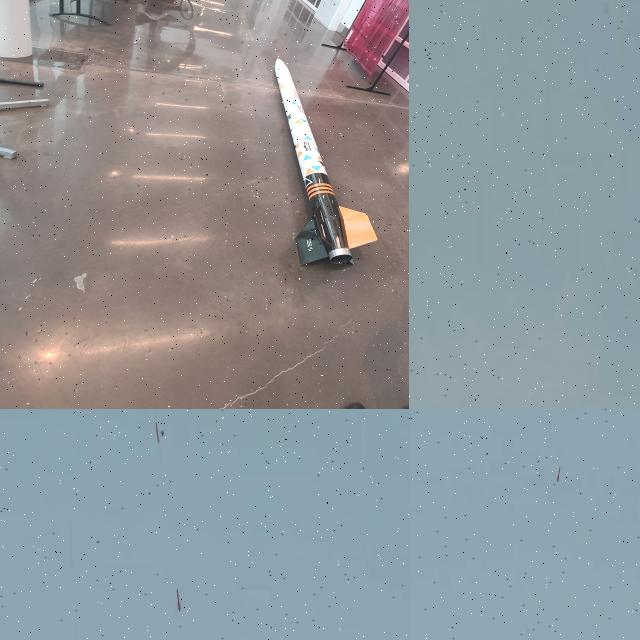Rocket: (274, 56, 378, 265), (177, 589, 181, 610), (556, 466, 561, 482)
